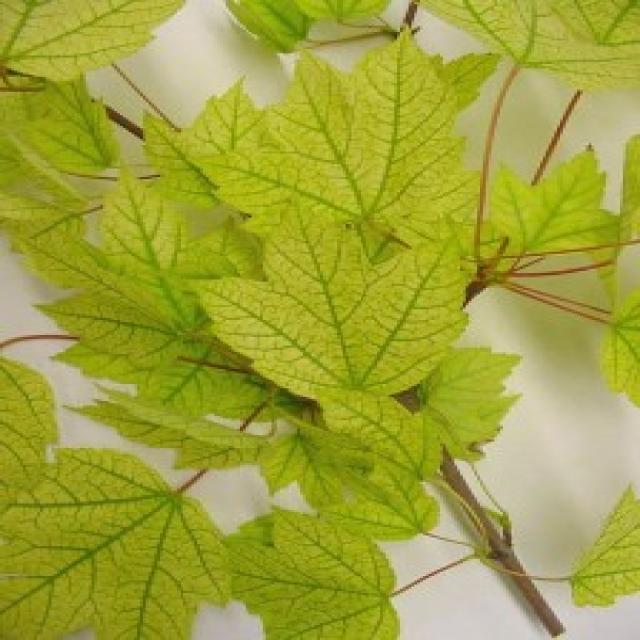Chlorosis: (3, 4, 640, 634)
